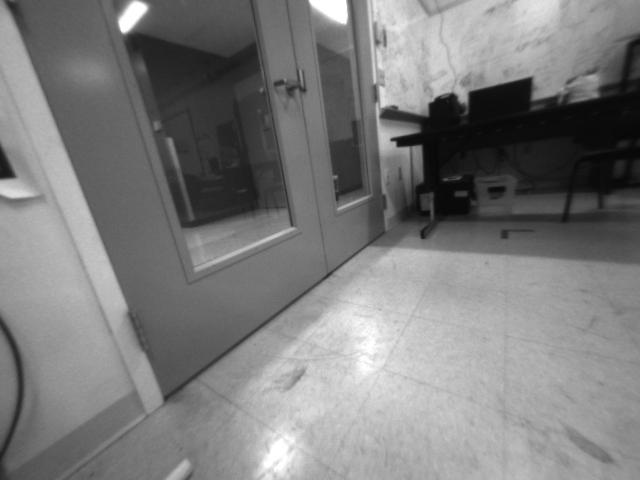door_handle: (267, 71, 300, 97)
